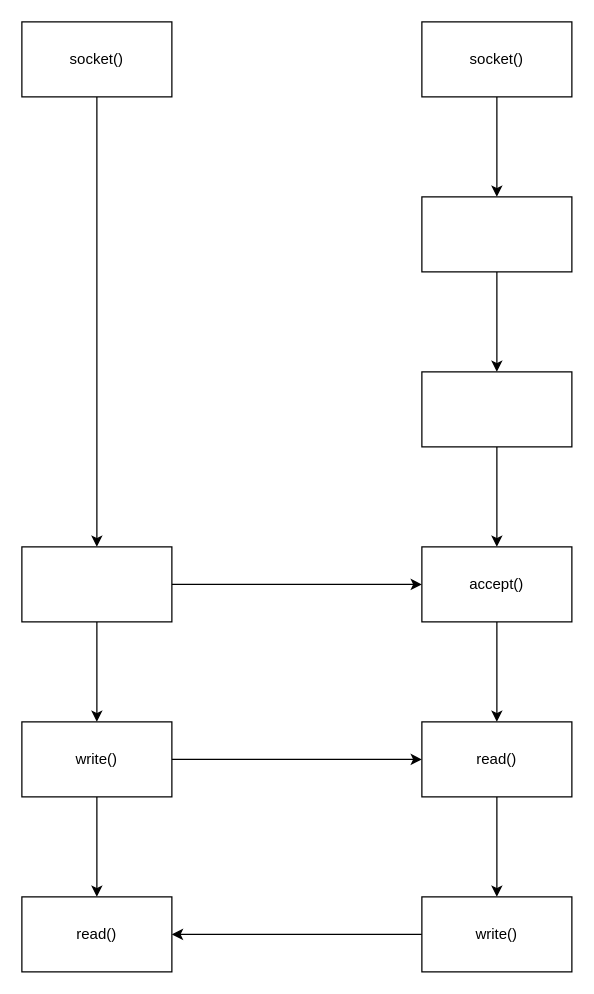
The diagram is 594 pixels wide and 994 high, and some of its shapes have lost their labels. Here are the shapes that lost their labels. From the top down, the box of each, then its label:
(421, 196, 572, 272): bind()
(421, 371, 572, 447): listern()
(21, 546, 172, 622): connect()
